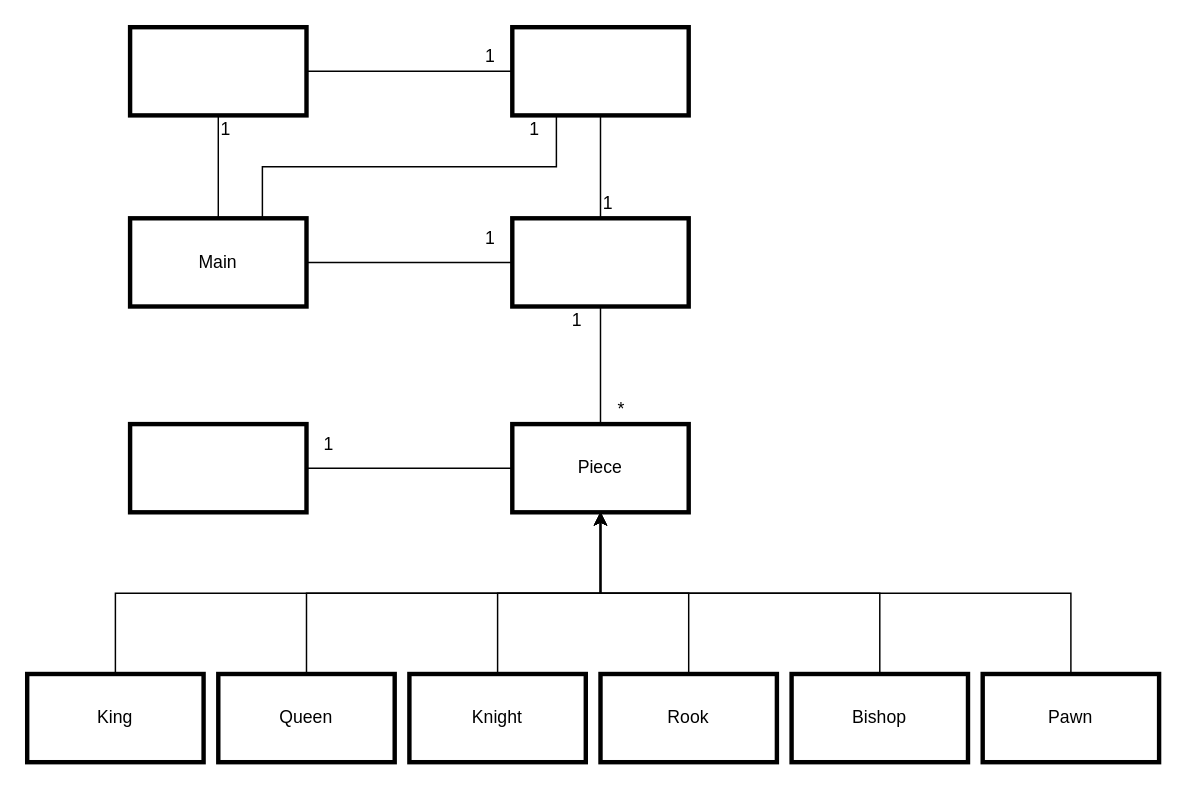
This 1186x789 diagram has some shape labels left out. The shapes that lost their labels are listed below. From the top down, each one's box as (x1, y1, x2, y2) in pixels, then its label:
(127, 24, 308, 117): GUI
(509, 24, 690, 117): Game
(509, 215, 690, 308): Board
(127, 421, 308, 514): Colour
